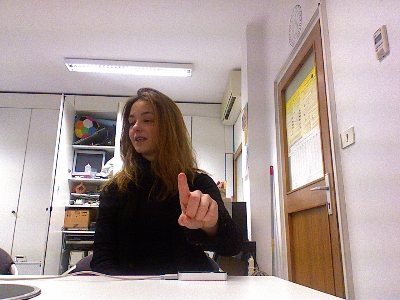食指: (176, 170, 219, 230)
